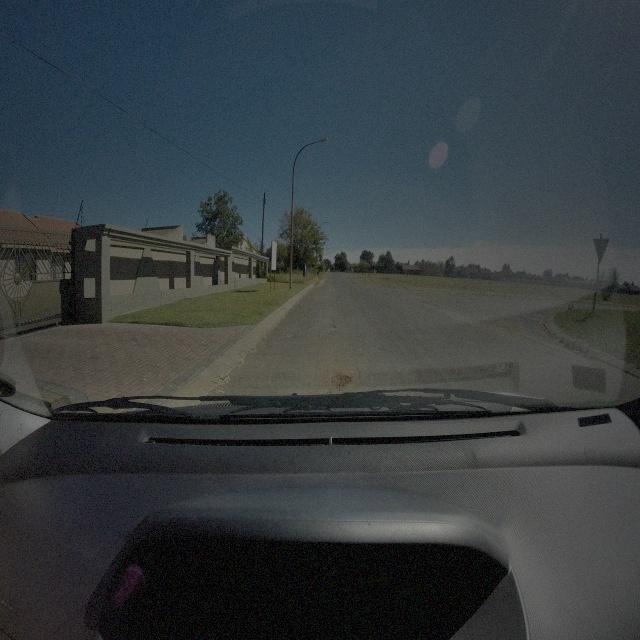pothole: (332, 372, 353, 387)
